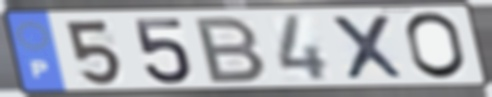4: (273, 13, 334, 84)
5: (129, 15, 195, 85), (62, 17, 126, 87)
B: (193, 14, 271, 85)
O: (402, 10, 470, 82)
X: (327, 13, 410, 82)
